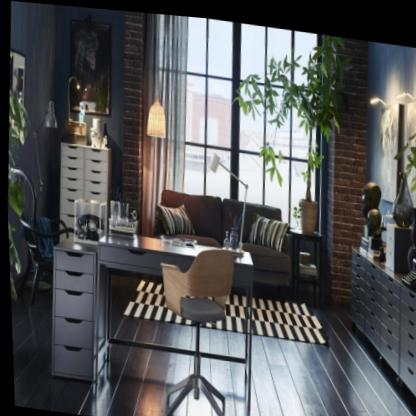Chair: (146, 233, 238, 416)
Sofa: (150, 184, 292, 294)
